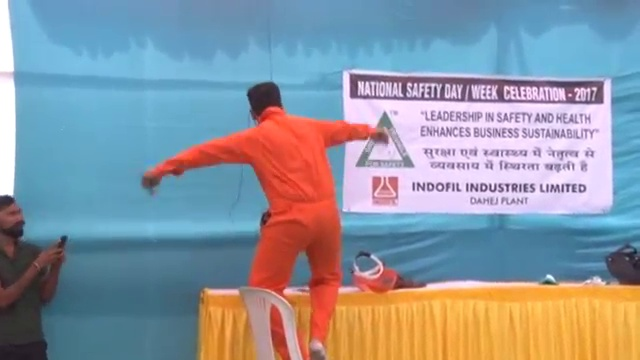helmet_off: (244, 82, 287, 121), (1, 195, 27, 241)
person: (142, 80, 391, 360), (1, 191, 68, 360)
